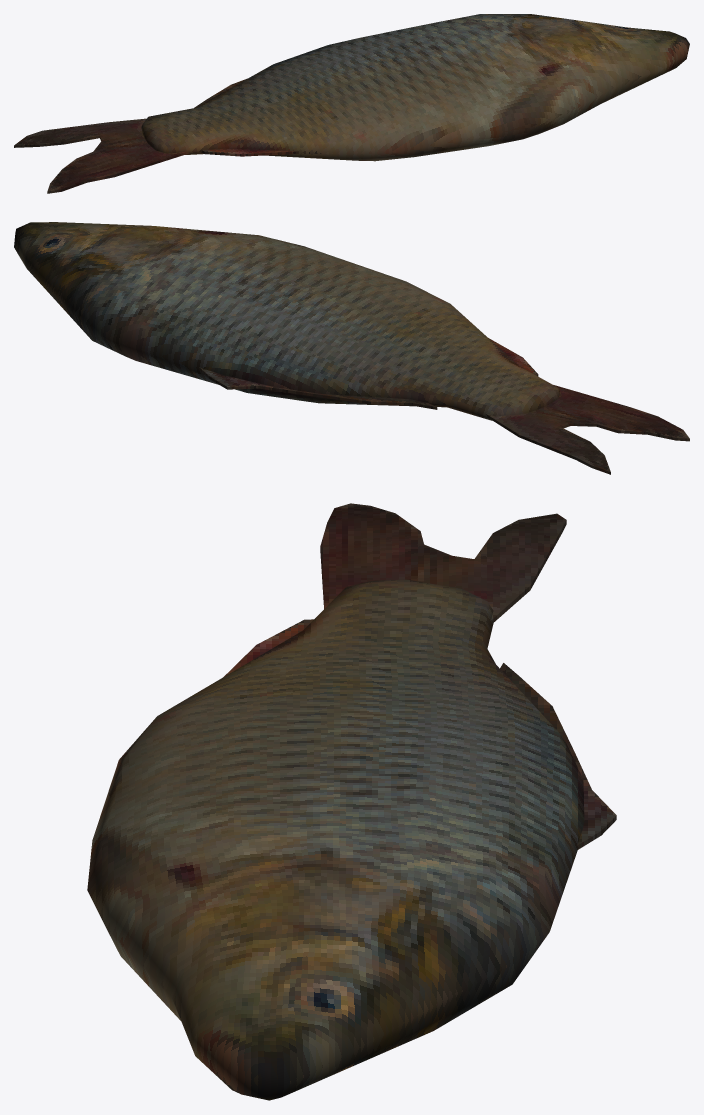
Rendered from fish_mx_1.glb.
3 renders of one model, top to bottom at view 1: azimuth 30°, elevation 25°; view 2: azimuth 150°, elevation 25°; view 3: azimuth 270°, elevation 25°, orthographic. The views are drawn at different scales.
Visible parts, largest first — view 1: fish_mx_1; view 2: fish_mx_1; view 3: fish_mx_1.
Boxes of the visible parts, bbox=[...] form: fish_mx_1: bbox=[14, 14, 689, 193]; fish_mx_1: bbox=[14, 222, 689, 474]; fish_mx_1: bbox=[87, 503, 616, 1100].
Bounding box in the file's own units: 0.5543 × 0.0641 × 0.2052.
1 material, 1 textured.
